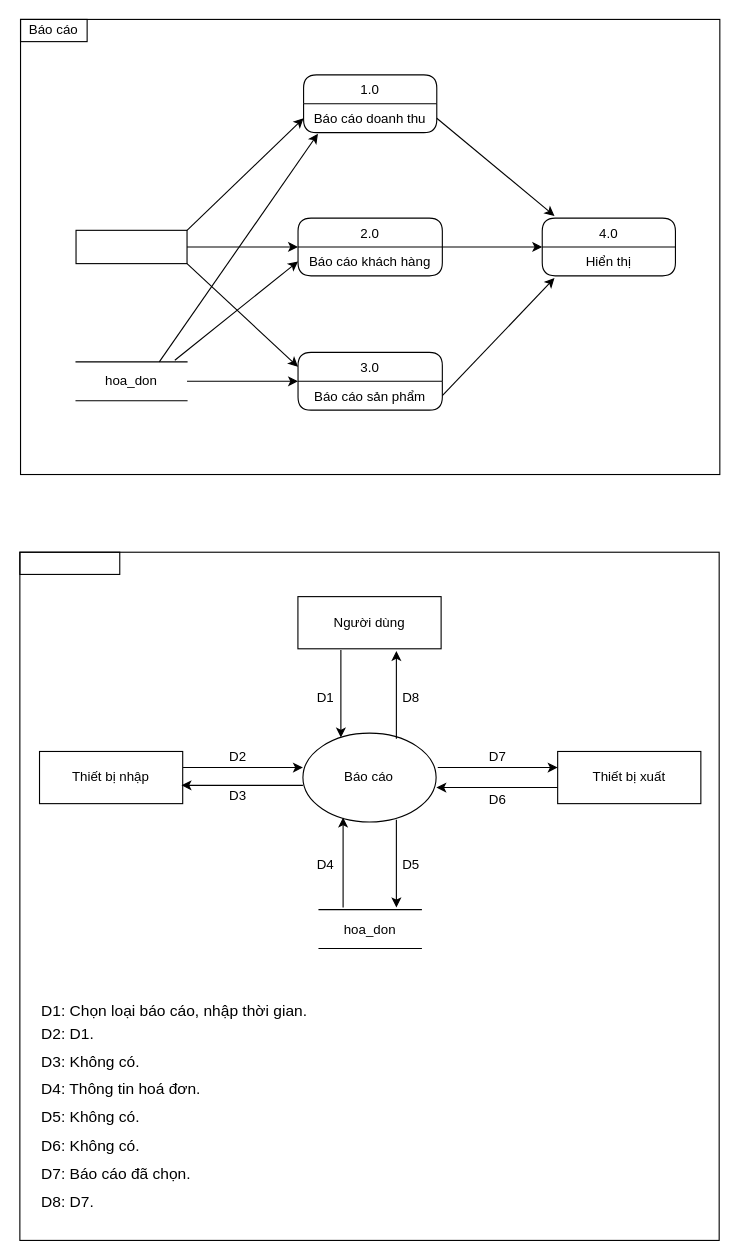
The diagram is 739 pixels wide and 1260 high, and some of its shapes have lost their labels. The centre of each missing label's shape, as x and y in pixels:
"Quản lí" belongs at [131,246].
"Sơ đồ tổng quát" belongs at [69,562].
